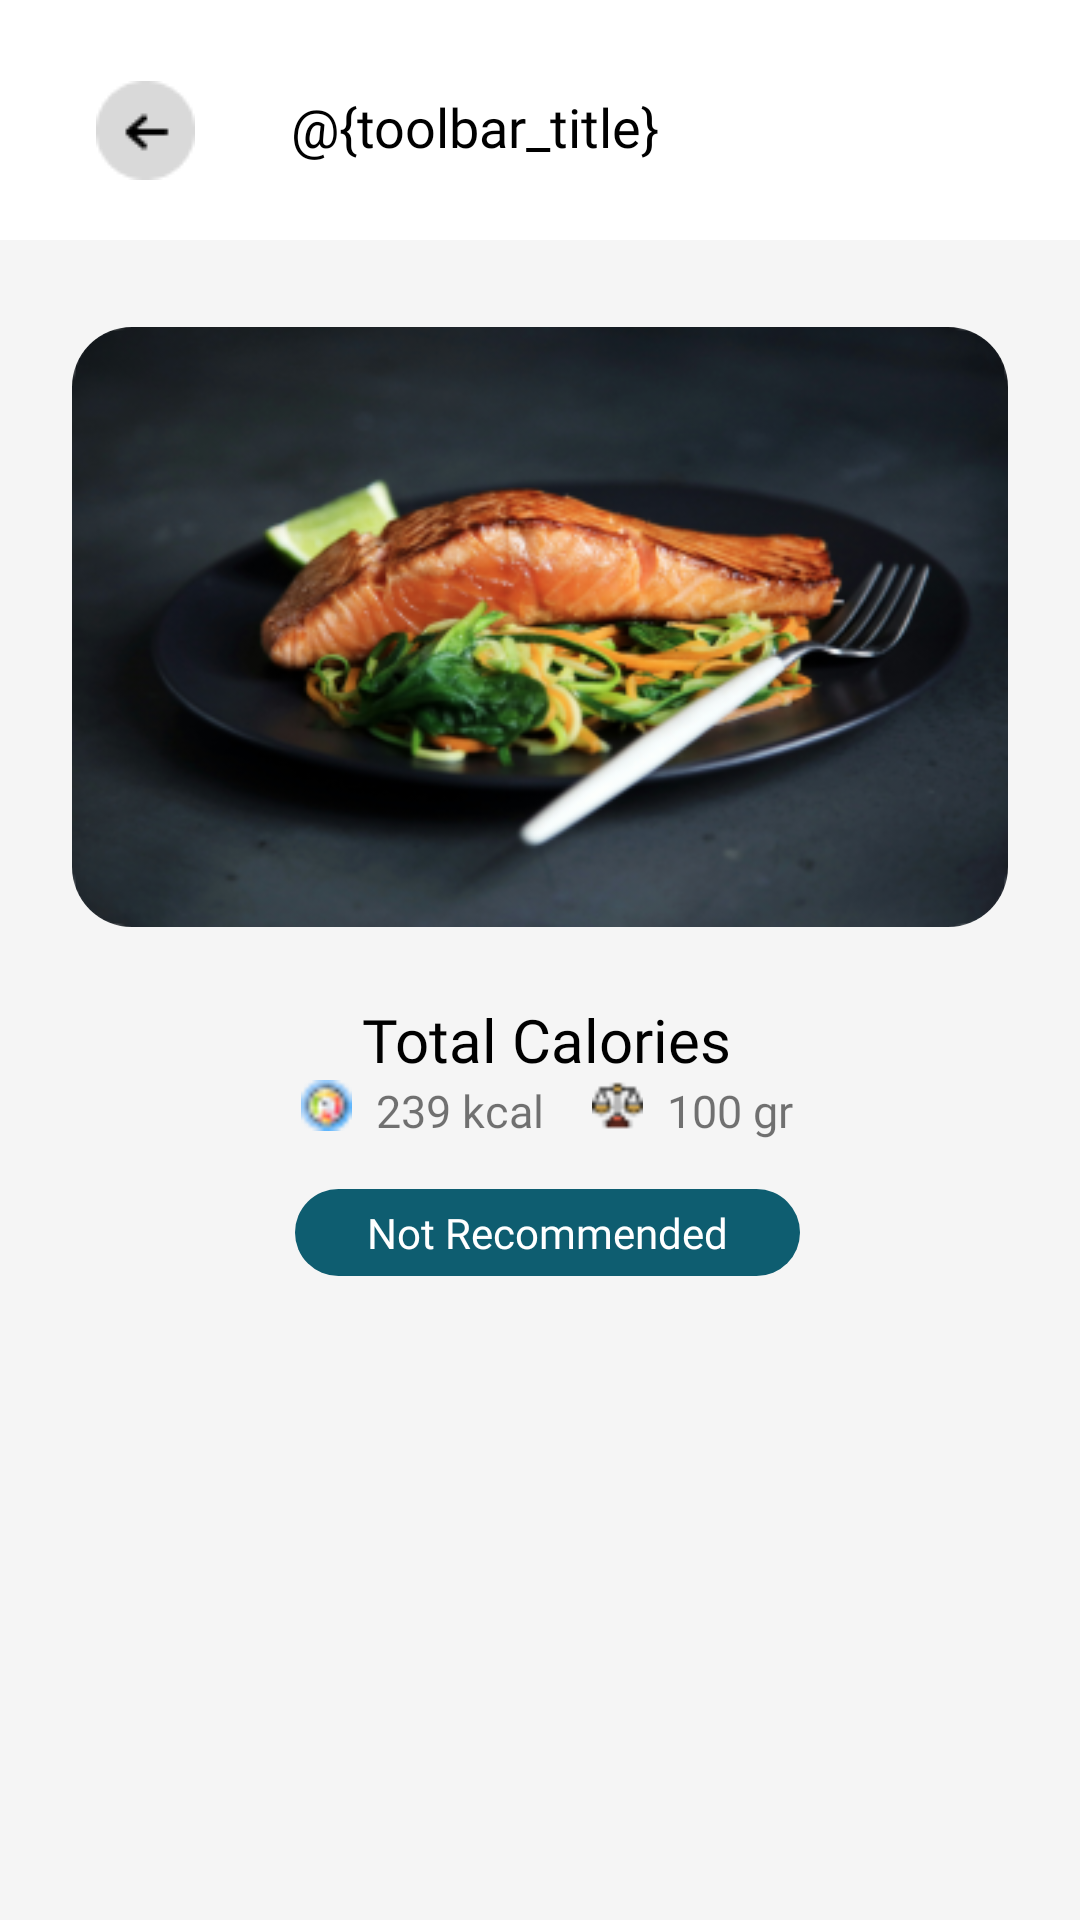

Point at icon controls on the screen. Image size 1080px×1920px, points as point (x, y).
back: point (145, 130)
gram: point (617, 1105)
